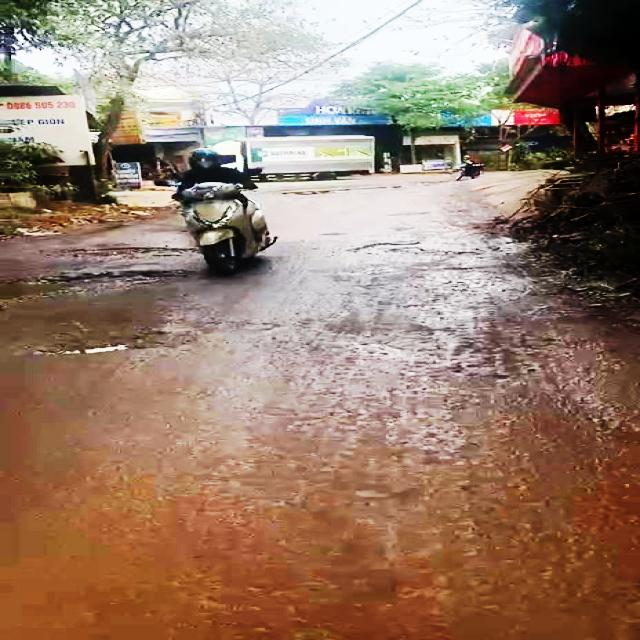pothole: (0, 260, 178, 303), (7, 328, 211, 358), (345, 240, 470, 260), (68, 244, 197, 259)
